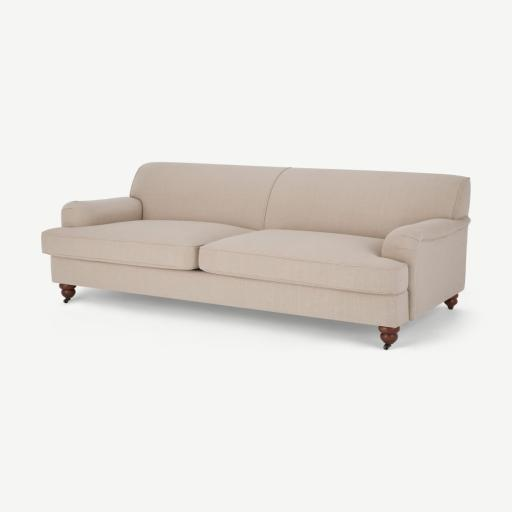back_cushion: (131, 162, 470, 238)
base: (51, 257, 407, 327)
left_arm: (382, 217, 468, 319)
legs: (379, 327, 399, 349), (59, 284, 76, 303), (444, 294, 458, 310)
right_arm: (61, 197, 141, 227)
seat_cushion: (43, 220, 406, 293)
two-seater: (0, 0, 511, 512)
